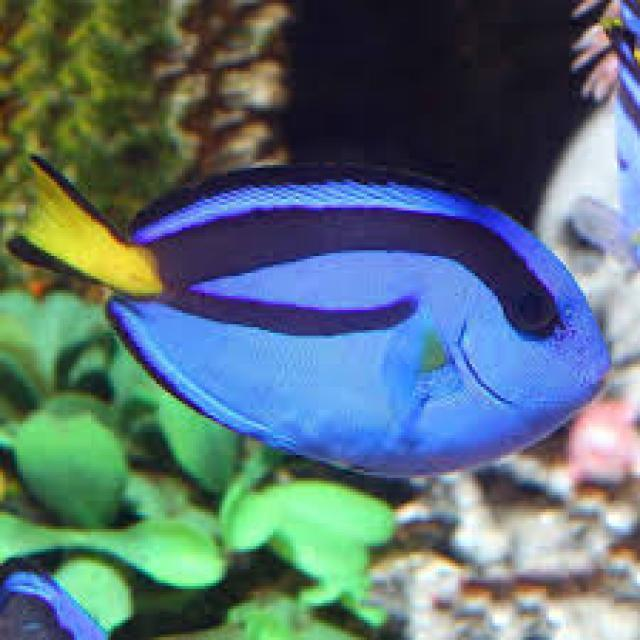TangFish: (10, 145, 607, 469)
